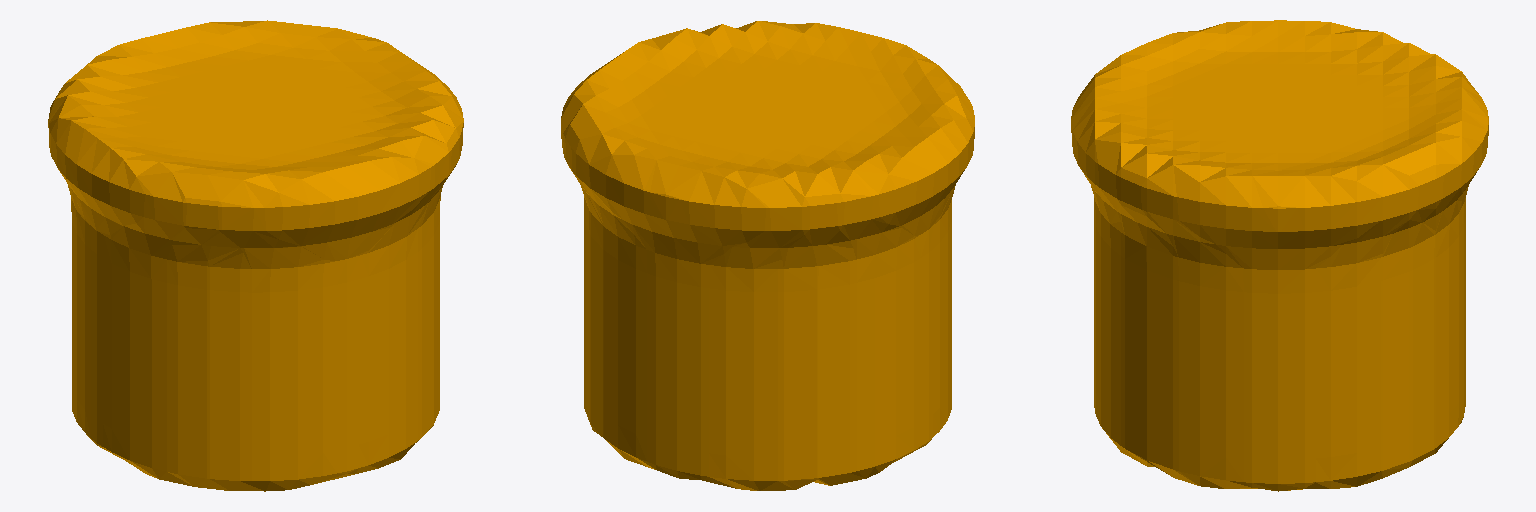
The robot description file, URDF, robot "cylinder_../../meshes/cylinders/cylinder_89.stl":
<?xml version="1.0" encoding="utf-8"?>  <robot name="cylinder_../../meshes/cylinders/cylinder_89.stl">   <link name="cylinder_../../meshes/cylinders/cylinder_89.stl">     <visual>       <geometry>         <mesh filename="../meshes/cylinders/cylinder_89.stl" scale="1 1 1"/>       </geometry>     </visual>     <collision>       <geometry>         <mesh filename="../meshes/cylinders/cylinder_89.stl" scale="1 1 1"/>       </geometry>     </collision>     <inertial>        <origin         xyz="0 0 0"         rpy="0 0 0" />       <mass value="0.27281442360252683"/>       <origin rpy="0 0 0" xyz="0 0 0"/>       <inertia ixx="0.00019409615105534105" ixy="-7.451926305426863e-08" ixz="2.33628804184451e-08" iyy="0.00019409518951165938" iyz="2.3047364559634845e-08" izz="0.00017967930908994293"/>     </inertial>   </link>  </robot>

--- What the picture shows (computed from the rendered views, not written in the file) ---
3 views of the same robot in one strip: view 1: azimuth 30°, elevation 25°; view 2: azimuth 150°, elevation 25°; view 3: azimuth 270°, elevation 25° (orthographic).
Robot: cylinder_../../meshes/cylinders/cylinder_89.stl — 1 links, 0 joints (none); root link cylinder_../../meshes/cylinders/cylinder_89.stl; default pose: all joints at 0.
Links seen in each view (by area): view 1: cylinder_../../meshes/cylinders/cylinder_89.stl; view 2: cylinder_../../meshes/cylinders/cylinder_89.stl; view 3: cylinder_../../meshes/cylinders/cylinder_89.stl.
Boxes of the visible links, x1,y1,x2,y2 form: cylinder_../../meshes/cylinders/cylinder_89.stl: [48, 20, 463, 491]; cylinder_../../meshes/cylinders/cylinder_89.stl: [561, 21, 974, 490]; cylinder_../../meshes/cylinders/cylinder_89.stl: [1071, 20, 1488, 491].
Bounding box of the posed robot: 0.0798 × 0.0798 × 0.0684 m (x, y, z).
Meshes: 1 distinct files referenced, 1 mesh visuals loaded (1 binary STL).